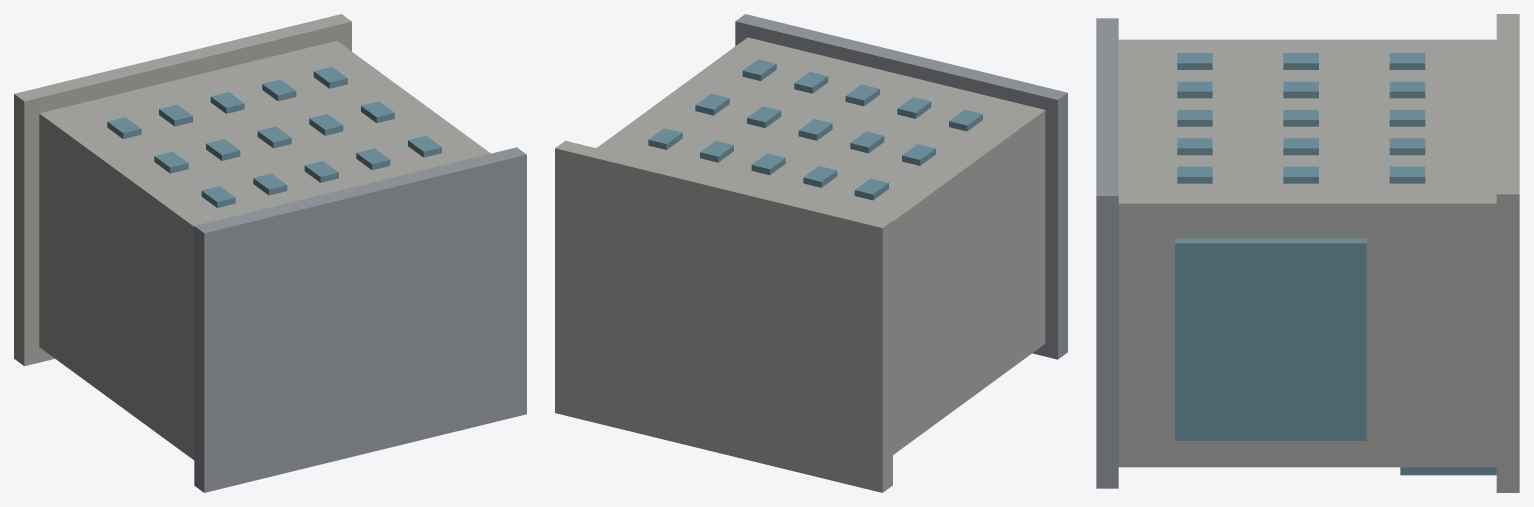
The model's file is AGE_VI_commercial.glb.
The picture shows the model from 3 angles, left to right: view 1: azimuth 30°, elevation 25°; view 2: azimuth 150°, elevation 25°; view 3: azimuth 270°, elevation 25°; orthographic projection. The views are drawn at different scales.
Parts seen in each view (by area): view 1: world; view 2: world; view 3: world.
Part boxes in pixels (box(x1,y1,x2,y2)): world: box(14, 14, 526, 492); world: box(555, 14, 1067, 492); world: box(1096, 14, 1519, 492).
Bounding box in the file's own units: 6.6 × 5.1 × 6.55.
